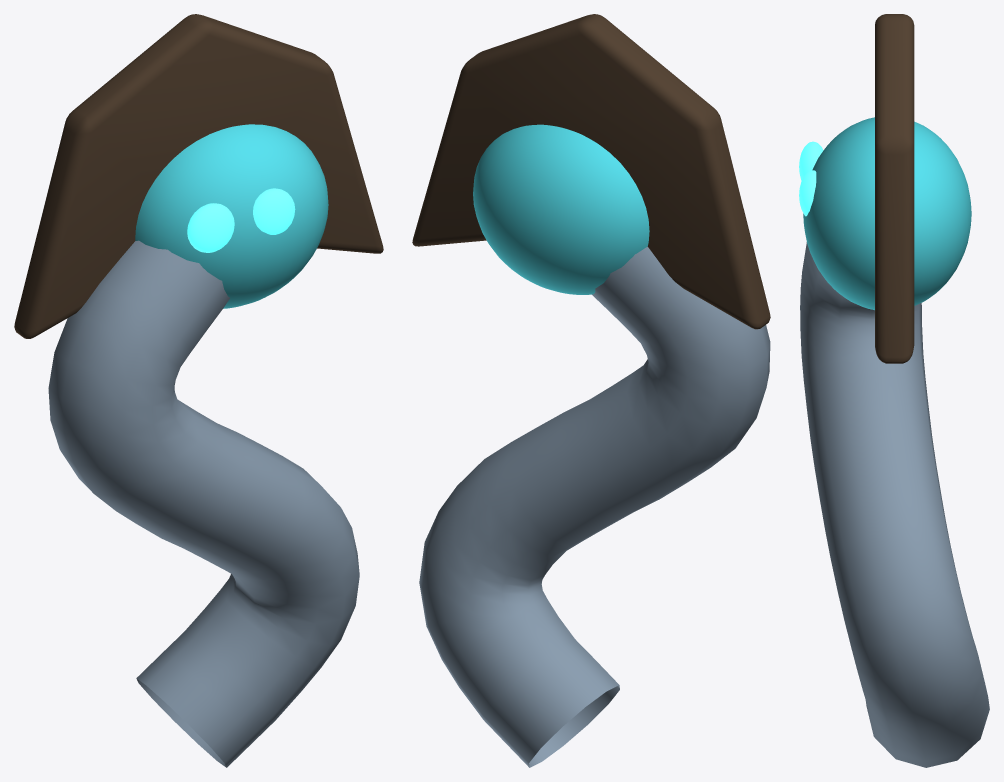
File: serpent_v2.glb
3 renders of one model, left to right at view 1: azimuth 30°, elevation 25°; view 2: azimuth 150°, elevation 25°; view 3: azimuth 270°, elevation 25°, orthographic. The views are drawn at different scales.
Visible parts, largest first — view 1: SERPENT_COIL_PRIMARY, COBRA_HOOD_SECONDARY, COBRA_HEAD_ACCENT, EYE_EMISSIVE, EYE_EMISSIVE.001; view 2: SERPENT_COIL_PRIMARY, COBRA_HOOD_SECONDARY, COBRA_HEAD_ACCENT; view 3: SERPENT_COIL_PRIMARY, COBRA_HEAD_ACCENT, COBRA_HOOD_SECONDARY, EYE_EMISSIVE.001, EYE_EMISSIVE.
Part boxes in pixels (x1,y1,x2,y2): SERPENT_COIL_PRIMARY: [48, 240, 359, 767]; COBRA_HOOD_SECONDARY: [14, 14, 383, 338]; COBRA_HEAD_ACCENT: [135, 124, 328, 308]; EYE_EMISSIVE: [187, 203, 234, 252]; EYE_EMISSIVE.001: [253, 188, 295, 234]; SERPENT_COIL_PRIMARY: [419, 246, 770, 767]; COBRA_HOOD_SECONDARY: [412, 14, 770, 329]; COBRA_HEAD_ACCENT: [473, 124, 649, 294]; SERPENT_COIL_PRIMARY: [800, 242, 989, 767]; COBRA_HEAD_ACCENT: [803, 117, 971, 310]; COBRA_HOOD_SECONDARY: [875, 14, 914, 363]; EYE_EMISSIVE.001: [799, 170, 816, 216]; EYE_EMISSIVE: [799, 141, 823, 180].
Size of the model in its own units: 1.42 by 2.89 by 0.6797.
